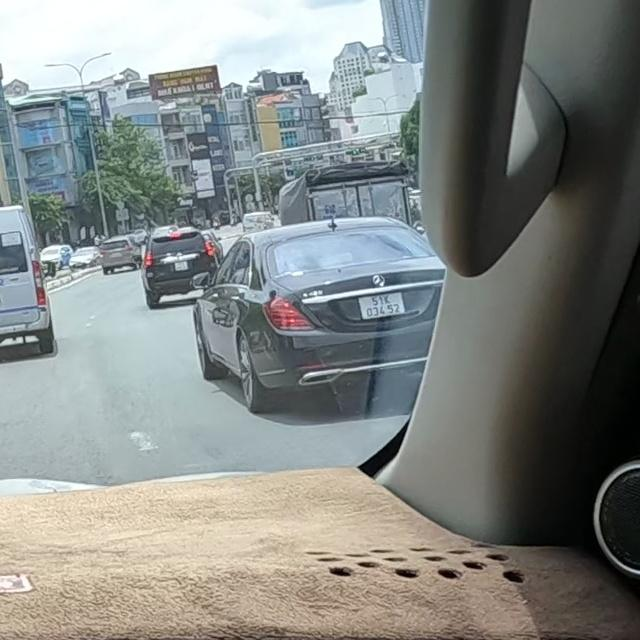license-plate: (358, 292, 405, 320)
